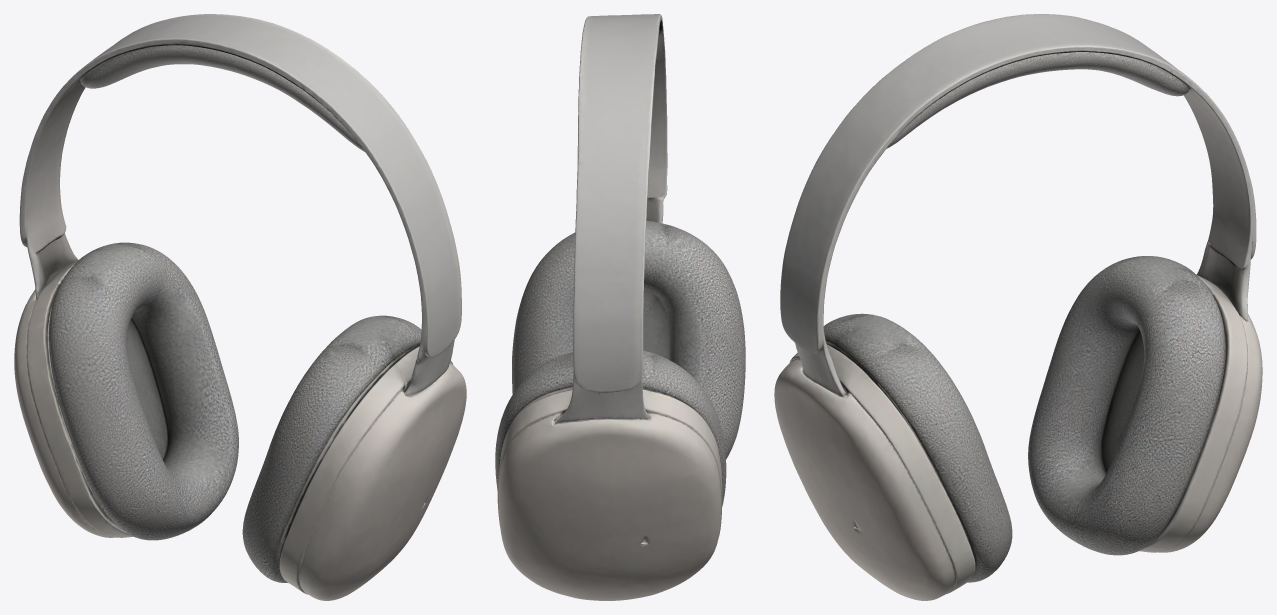
3 views of the same model, side by side, from view 1: azimuth 30°, elevation 25°; view 2: azimuth 150°, elevation 25°; view 3: azimuth 270°, elevation 25° (orthographic). The views are drawn at different scales.
Parts seen in each view (by area): view 1: tripo_node_8bf561c3-5741-4c79-b2f4-17009cd952e9; view 2: tripo_node_8bf561c3-5741-4c79-b2f4-17009cd952e9; view 3: tripo_node_8bf561c3-5741-4c79-b2f4-17009cd952e9.
Part boxes in pixels (x1,y1,x2,y2): tripo_node_8bf561c3-5741-4c79-b2f4-17009cd952e9: [14, 14, 466, 600]; tripo_node_8bf561c3-5741-4c79-b2f4-17009cd952e9: [495, 14, 745, 600]; tripo_node_8bf561c3-5741-4c79-b2f4-17009cd952e9: [774, 14, 1262, 600].
Size of the model in its own units: 0.6286 by 1 by 0.8282.
Materials: 1 (1 with a texture image).
